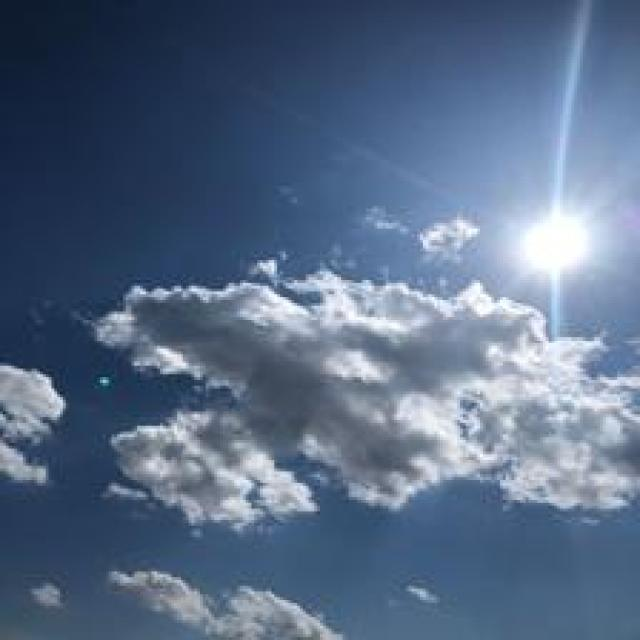sun: (524, 215, 589, 271)
